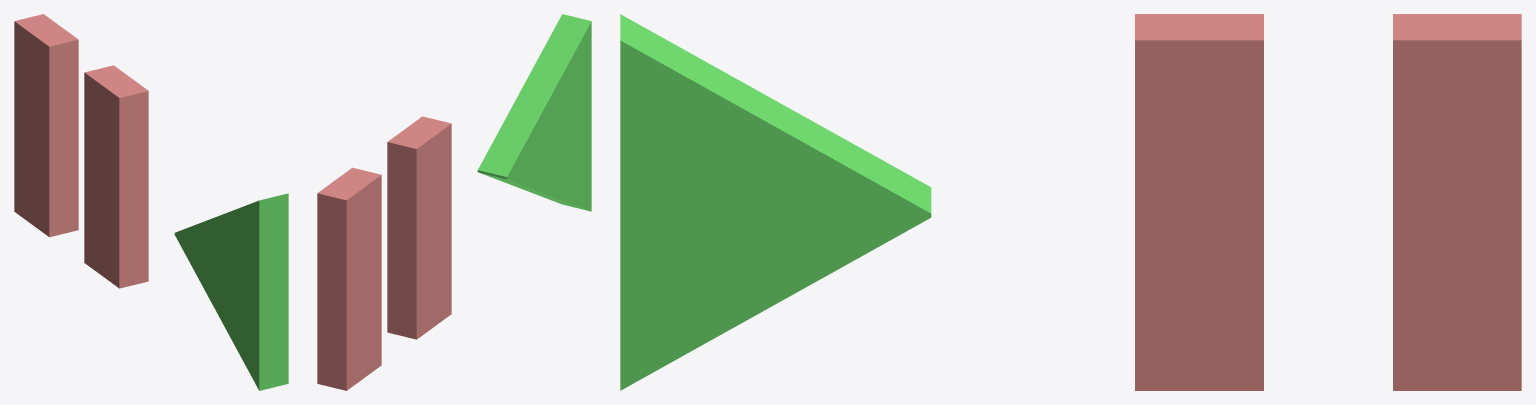
The model's file is play-pause.glb.
3 renders of one model, left to right at view 1: azimuth 30°, elevation 25°; view 2: azimuth 150°, elevation 25°; view 3: azimuth 270°, elevation 25°, orthographic. The views are drawn at different scales.
Parts seen in each view (by area): view 1: pause, play; view 2: pause, play; view 3: pause, play.
Boxes of the visible parts, bbox=[...] form: pause: bbox=[14, 14, 148, 288]; play: bbox=[174, 193, 288, 390]; pause: bbox=[317, 116, 451, 390]; play: bbox=[477, 14, 591, 211]; pause: bbox=[1135, 14, 1521, 390]; play: bbox=[620, 14, 931, 390].
Size of the model in its own units: 0.1884 by 1.17 by 2.73.
